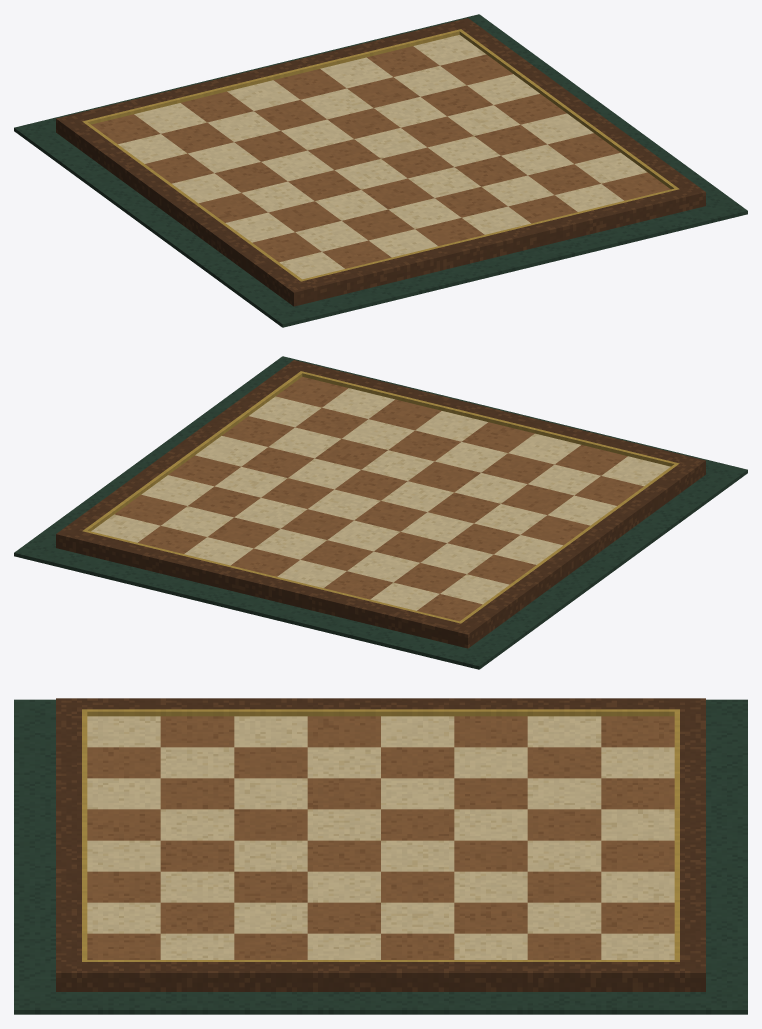
The model's file is classic_board.glb.
3 renders of one model, top to bottom at view 1: azimuth 30°, elevation 25°; view 2: azimuth 150°, elevation 25°; view 3: azimuth 270°, elevation 25°, orthographic. The views are drawn at different scales.
Bounding box in the file's own units: 14 × 0.5 × 14.
